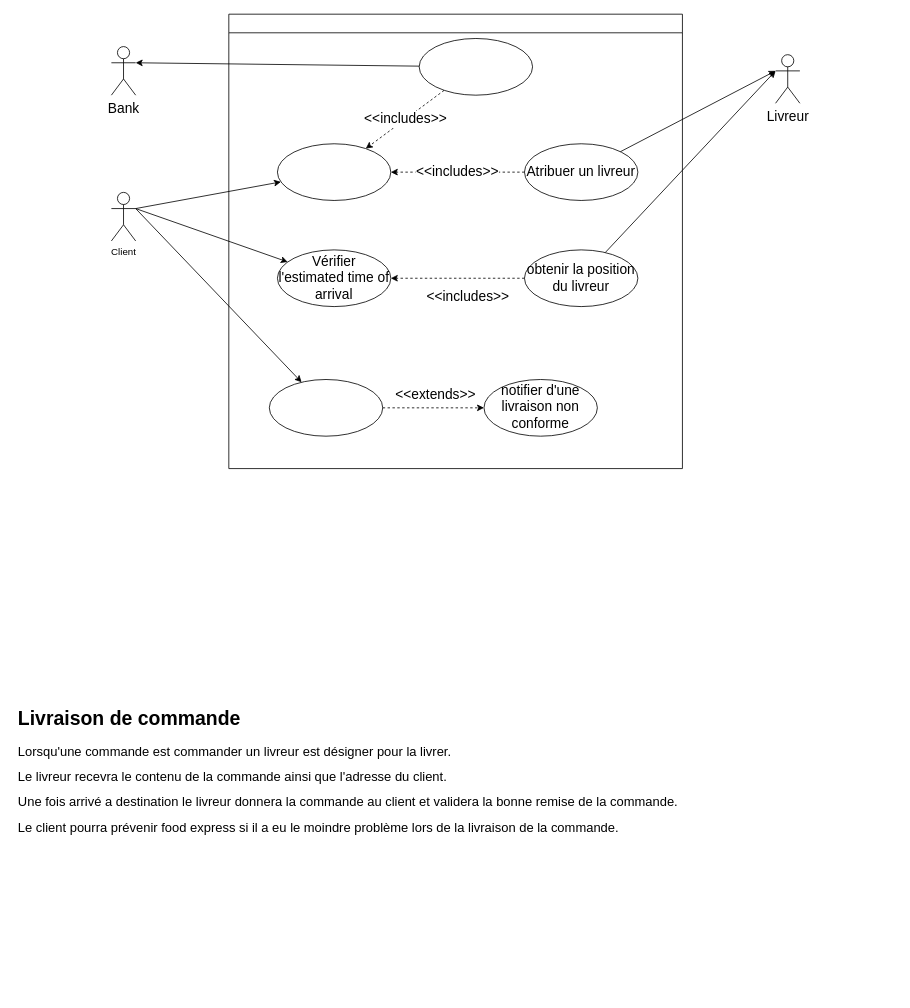
The diagram is 910 pixels wide and 1008 high, and some of its shapes have lost their labels. Here are the shapes that lost their labels. From the top down, the box of each, then its label:
(418, 38, 533, 95): Vérifier le paiement
(277, 143, 391, 200): Valider la commande
(228, 13, 682, 469): Food Express
(269, 379, 383, 436): Valider la livraison
